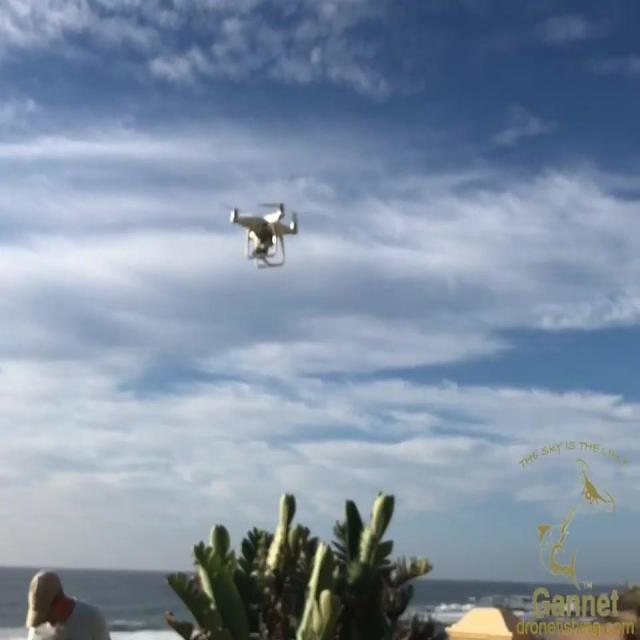drone: (227, 200, 302, 272)
